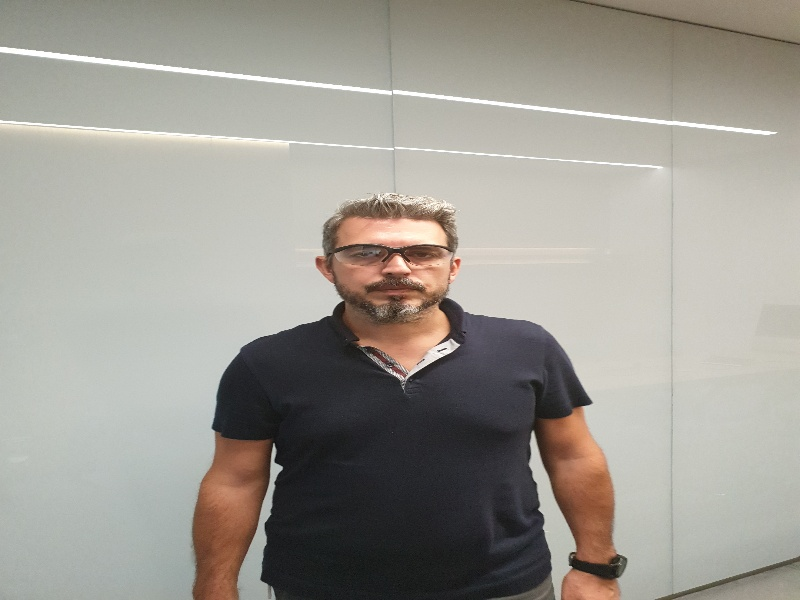Gozluk: (328, 244, 455, 271)
